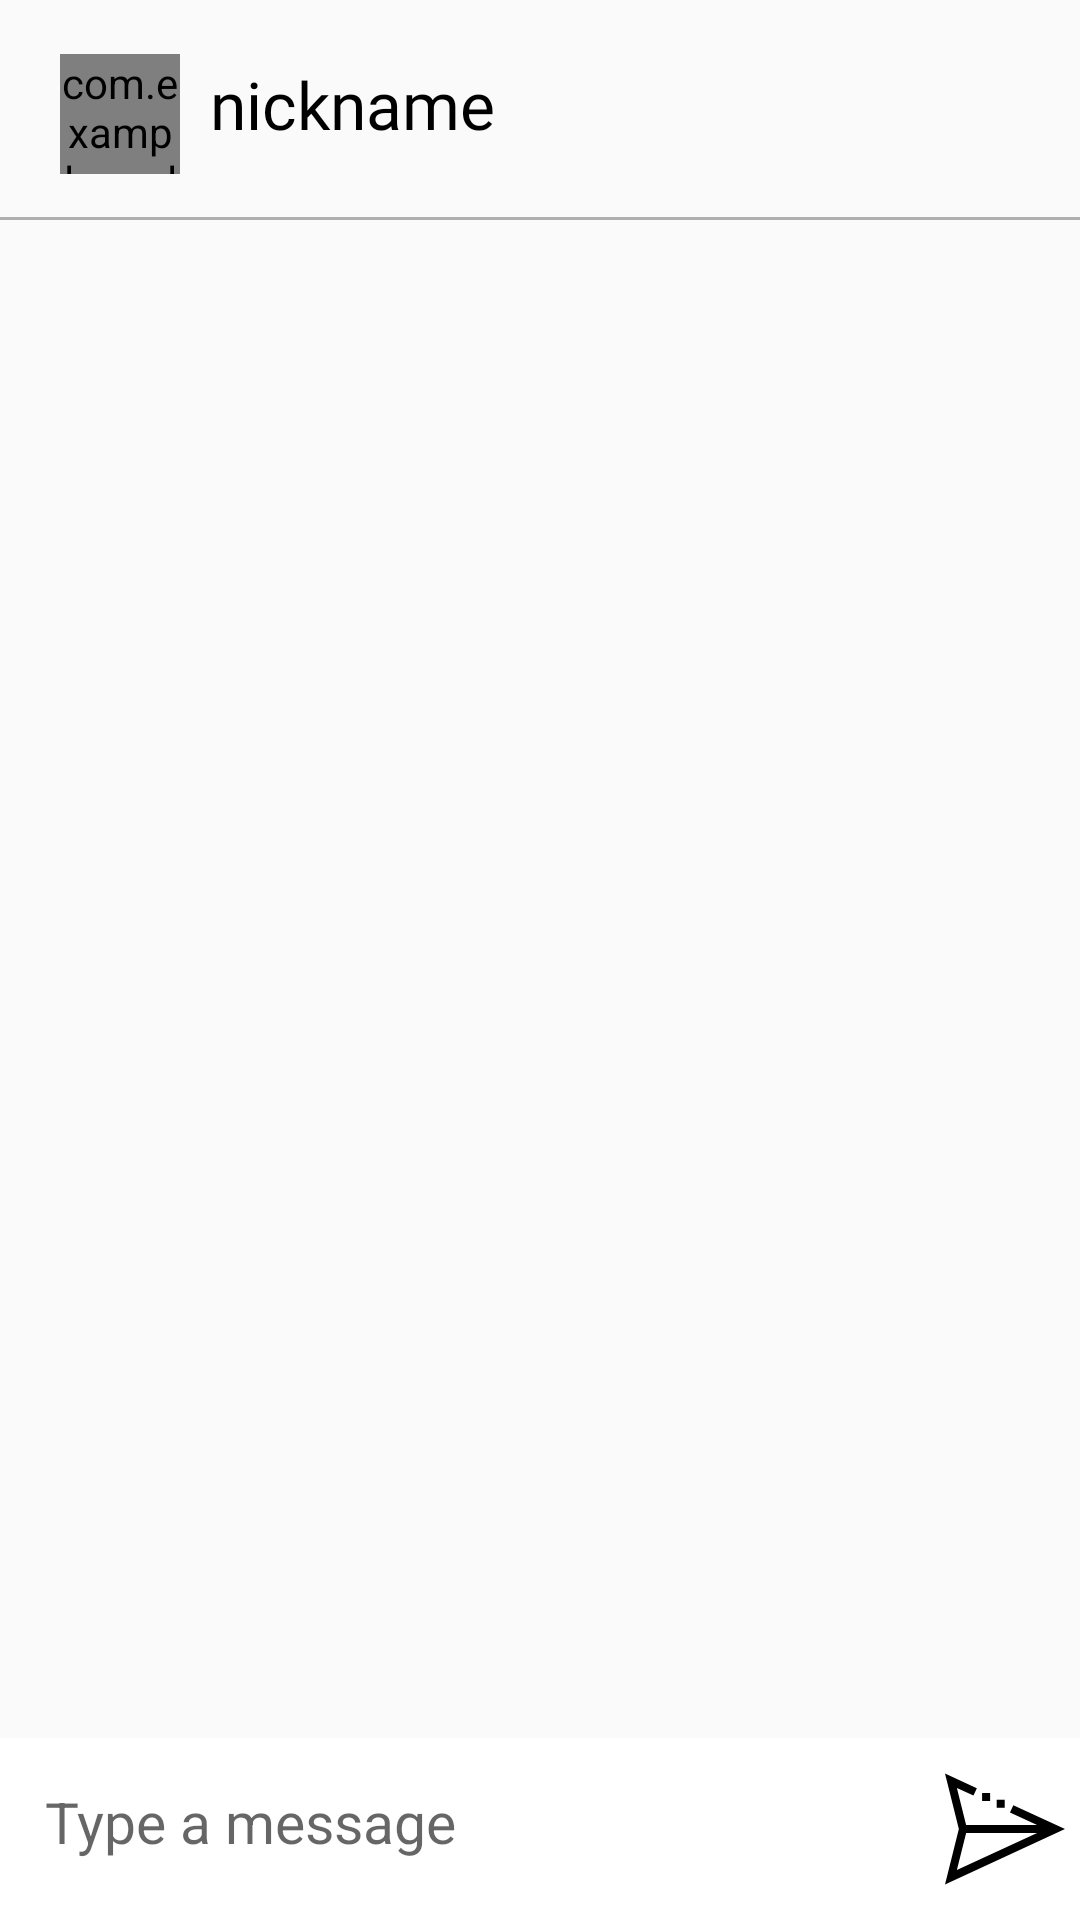

Screen size 1080x1920. Icon name, then its center in pixels as [x,y]:
send msg: [1005,1829]
